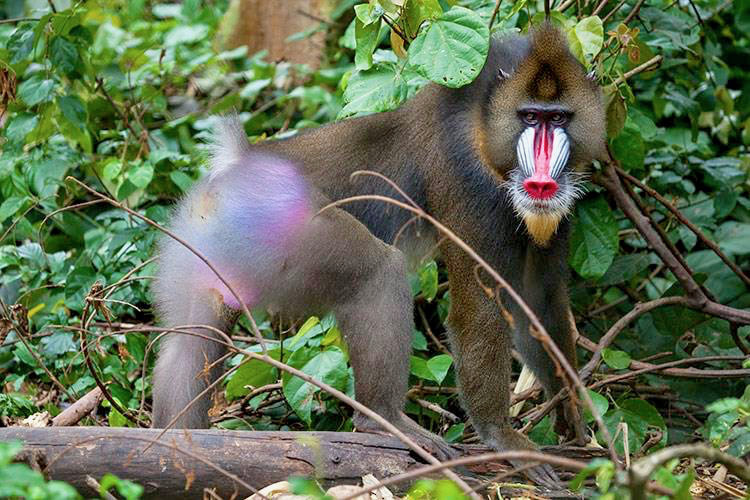Mandrill: (151, 48, 634, 417)
